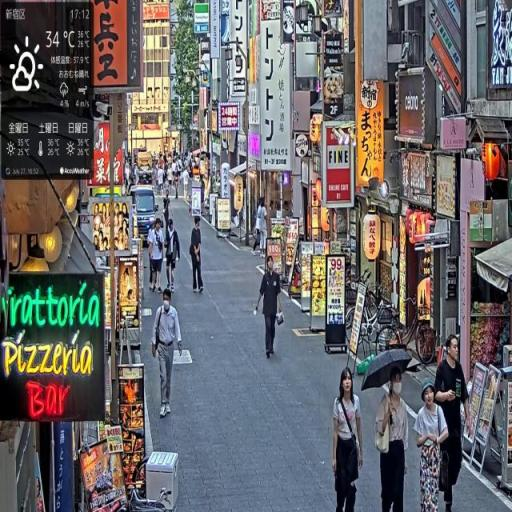person: (433, 334, 471, 512), (376, 366, 411, 512), (415, 382, 450, 512), (334, 367, 365, 512), (154, 286, 185, 423), (255, 254, 286, 360), (148, 217, 166, 295), (165, 219, 181, 294), (189, 217, 204, 294), (255, 197, 269, 257)
